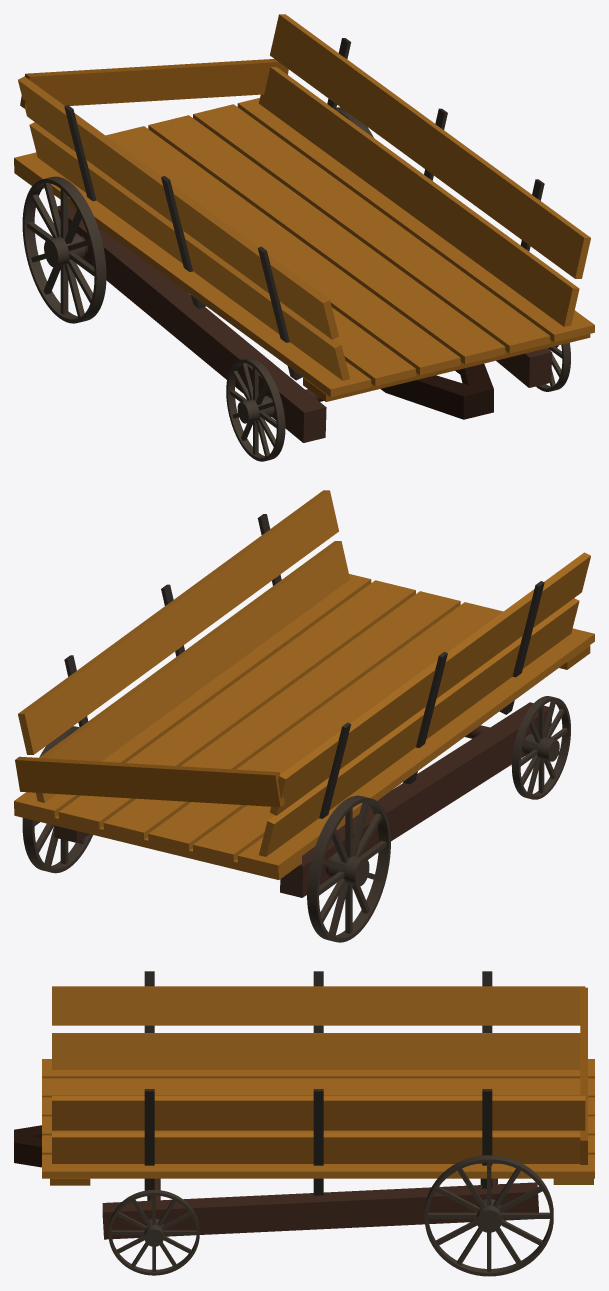
The picture shows the model from 3 angles, top to bottom: view 1: azimuth 30°, elevation 25°; view 2: azimuth 150°, elevation 25°; view 3: azimuth 270°, elevation 25°; orthographic projection. The views are drawn at different scales.
Parts seen in each view (by area): view 1: upper_board, lower_board, floor_plank.005, floor_plank.004, floor_plank.003, upper_board.001, chassis_beam.001, lower_board.001, end_rail, floor_plank.001, rim.001, floor_plank.006 (+9 smaller); view 2: upper_board, lower_board, floor_plank.005, floor_plank.004, floor_plank.003, upper_board.001, lower_board.001, end_rail, chassis_beam.001, floor_plank.001, rim.001, floor_plank.006 (+7 smaller); view 3: upper_board.001, lower_board.001, upper_board, lower_board, chassis_beam, floor_plank.002, floor_plank.006, rim, floor_plank.001, rim.002, floor_plank.004, end_rail (+4 smaller).
Part boxes in pixels (x1,y1,x2,y2): upper_board: (270,14,590,278); lower_board: (258,67,579,326); floor_plank.005: (193,104,550,353); floor_plank.004: (148,115,505,364); floor_plank.003: (105,126,460,375); upper_board.001: (18,76,338,339); chassis_beam.001: (57,205,326,442); lower_board.001: (29,122,349,380); end_rail: (20,59,288,108); floor_plank.001: (14,152,371,396); rim.001: (22,176,106,323); floor_plank.006: (237,98,594,342); upper_board: (18,490,338,754); lower_board: (36,541,350,802); floor_plank.005: (58,580,415,829); floor_plank.004: (103,591,460,840); floor_plank.003: (148,602,503,851); upper_board.001: (270,552,590,815); lower_board.001: (259,598,579,856); end_rail: (15,756,284,807); chassis_beam.001: (280,702,551,897); floor_plank.001: (237,628,594,872); rim.001: (307,795,390,942); floor_plank.006: (14,574,371,818); upper_board.001: (52,986,585,1025); lower_board.001: (52,1033,580,1069); upper_board: (52,1096,585,1130); lower_board: (52,1133,580,1163); chassis_beam: (102,1182,538,1239); floor_plank.002: (42,1078,594,1097); floor_plank.006: (42,1154,594,1178); rim: (424,1155,553,1276); floor_plank.001: (42,1059,594,1078); rim.002: (108,1190,199,1275); floor_plank.004: (42,1116,594,1135); end_rail: (580,987,587,1164).
Size of the model in its own units: 1.06 by 0.6821 by 1.96.
